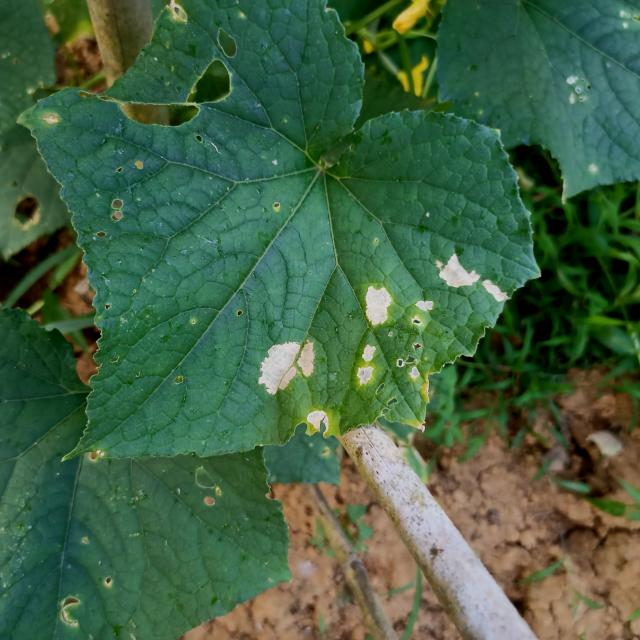disease_cucumber: (341, 276, 436, 392), (436, 247, 518, 303), (254, 334, 320, 399), (301, 406, 340, 439)
